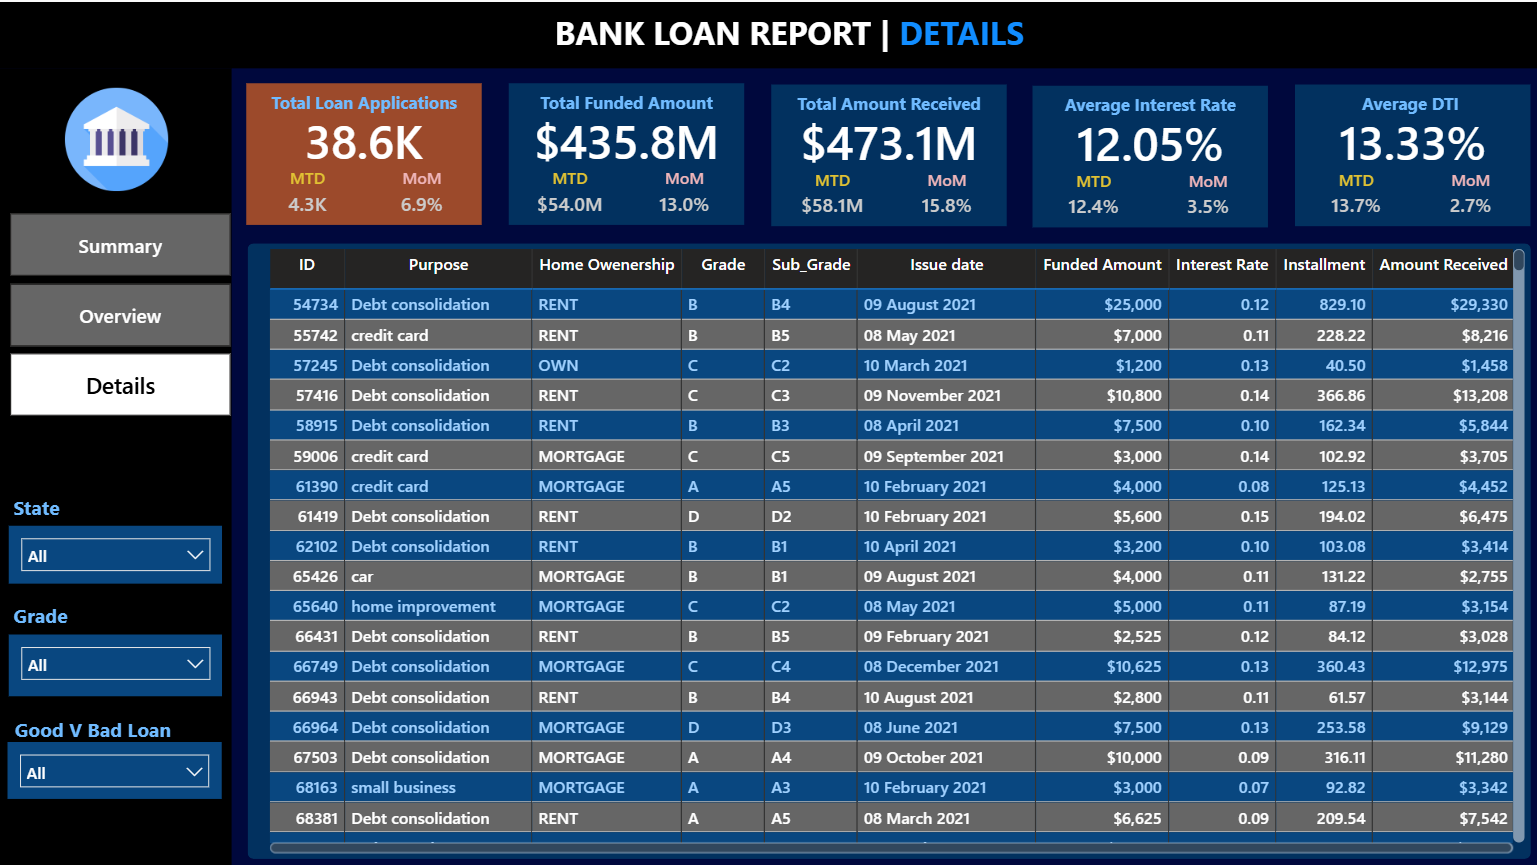

What the dashboard file says about the page in this screenshot:
{"tool":"powerbi","page":{"name":"Details","canvas":[1280,720],"ordinal":2},"visuals":[{"type":"shape","box":[0,0,1280.3,55],"z":0},{"type":"shape","box":[204.7,67.4,195.3,117.4],"z":0,"group":"g2"},{"type":"shape","box":[422,67.4,195.3,117.4],"z":0,"group":"g3"},{"type":"shape","box":[639.3,68.2,195.3,117.4],"z":0,"group":"g4"},{"type":"shape","box":[1073.3,68.2,195.3,117.4],"z":0,"group":"g6"},{"type":"shape","box":[856.3,69.4,195.3,117.4],"z":0,"group":"g5"},{"type":"card","fields":{"Values":["bank_loan_data.Total Loan Applications"]},"box":[204.7,91.8,195.3,45.3],"z":1000,"group":"g2"},{"type":"card","fields":{"Values":["bank_loan_data.Total Funded Amount"]},"box":[422,91.8,195.3,45.3],"z":1000,"group":"g3"},{"type":"card","fields":{"Values":["bank_loan_data.Total Received Amount"]},"box":[639.3,92.6,195.3,45.3],"z":1000,"group":"g4"},{"type":"card","fields":{"Values":["bank_loan_data.Average DTI Rate"]},"box":[1073.3,92.6,195.3,45.3],"z":1000,"group":"g6"},{"type":"card","fields":{"Values":["bank_loan_data.Avg Interest Rate"]},"box":[856.3,93.8,195.3,45.3],"z":1000,"group":"g5"},{"type":"group","id":"g1","title":"Group 2","box":[205,200,1064,510.5],"z":1000},{"type":"shape","box":[0,54.9,192,665.5],"z":2000,"group":"g7"},{"type":"textbox","box":[204.7,68.6,195.3,32.6],"z":2000,"group":"g2"},{"type":"textbox","box":[422,68.6,195.3,32.6],"z":2000,"group":"g3"},{"type":"textbox","box":[639.3,69.4,195.3,32.6],"z":2000,"group":"g4"},{"type":"textbox","box":[1073.3,69.4,195.3,32.6],"z":2000,"group":"g6"},{"type":"textbox","box":[856.3,70.6,195.3,32.6],"z":2000,"group":"g5"},{"type":"textbox","box":[454.7,2.3,444.2,52.3],"z":3000},{"type":"card","title":"MTD","fields":{"Values":["bank_loan_data.MTD Loan Applications"]},"box":[221,137.2,68.6,47.7],"z":3000,"group":"g2"},{"type":"card","title":"MTD","fields":{"Values":["bank_loan_data.MTD Total Funded Amount"]},"box":[438.3,137.2,68.6,47.7],"z":3000,"group":"g3"},{"type":"card","title":"MTD","fields":{"Values":["bank_loan_data.MTD Received Amount"]},"box":[655.6,138,68.6,47.7],"z":3000,"group":"g4"},{"type":"card","title":"MTD","fields":{"Values":["bank_loan_data.MTD DTI Rate"]},"box":[1089.6,138,68.6,47.7],"z":3000,"group":"g6"},{"type":"card","title":"MTD","fields":{"Values":["bank_loan_data.MTD Interest Rate"]},"box":[872.6,139.2,68.6,47.7],"z":3000,"group":"g5"},{"type":"shape","box":[205,200,1064,510.5],"z":3000,"group":"g1"},{"type":"group","id":"g2","title":"Group 1","box":[204.7,67.4,195.3,117.4],"z":4000},{"type":"card","title":"MoM","fields":{"Values":["bank_loan_data.MoM Loan Applications"]},"box":[315.2,137.2,69.8,47.7],"z":4000,"group":"g2"},{"type":"card","title":"MoM","fields":{"Values":["bank_loan_data.MoM Funded Amount"]},"box":[532.5,137.2,69.8,47.7],"z":4000,"group":"g3"},{"type":"card","title":"MoM","fields":{"Values":["bank_loan_data.MoM Received Amount"]},"box":[749.8,138,69.8,47.7],"z":4000,"group":"g4"},{"type":"card","title":"MoM","fields":{"Values":["bank_loan_data.MoM DTI Rate"]},"box":[1183.8,138,69.8,47.7],"z":4000,"group":"g6"},{"type":"card","title":"MoM","fields":{"Values":["bank_loan_data.MoM Interest Rate"]},"box":[966.8,139.2,69.8,47.7],"z":4000,"group":"g5"},{"type":"group","id":"g3","title":"Group 1","box":[422,67.4,195.3,117.4],"z":5000},{"type":"group","id":"g4","title":"Group 1","box":[639.3,68.2,195,117.3],"z":6000},{"type":"group","id":"g5","title":"Group 1","box":[856.3,69.4,195,117.3],"z":7000},{"type":"group","id":"g6","title":"Group 1","box":[1073.3,68.2,195,117.3],"z":8000},{"type":"slicer","title":"State","fields":{"Values":["bank_loan_data.address_state"]},"box":[7.2,434.3,177.1,47.9],"z":9000,"group":"g7"},{"type":"textbox","box":[6.7,403.1,89.3,31.3],"z":10000,"group":"g7"},{"type":"slicer","title":"State","fields":{"Values":["bank_loan_data.grade"]},"box":[7.2,524.1,177.1,51.4],"z":11000,"group":"g7"},{"type":"textbox","box":[6.7,492.4,89.3,31.3],"z":12000,"group":"g7"},{"type":"slicer","title":"State","fields":{"Values":["bank_loan_data.Good Vs Bad Loan "]},"box":[6.7,613,177.5,46.9],"z":13000,"group":"g7"},{"type":"textbox","box":[7.3,586.6,156.5,38.3],"z":14000,"group":"g7"},{"type":"tableEx","fields":{"Values":["bank_loan_data.id","bank_loan_data.purpose","bank_loan_data.home_ownership","bank_loan_data.grade","bank_loan_data.sub_grade","bank_loan_data.issue_date","bank_loan_data.Total Funded Amount","Sum(bank_loan_data.int_rate)","Sum(bank_loan_data.installment)","bank_loan_data.Total Received Amount"]},"box":[217.4,200,1051.2,510.5],"z":17001},{"type":"pageNavigator","box":[8.1,175.6,183.7,170.9],"z":17003,"group":"g7"},{"type":"image","box":[1.2,66.3,191.9,95.3],"z":17004,"group":"g7"},{"type":"group","id":"g7","title":"Group 3","box":[0,54.9,193,665.5],"z":17005}]}

Visuals, with their boxes in screenshot pixels (x1, y1, x2, y2), scaled from the page's 1280x720 canvas onto the 1537x865 screenshot:
shape: x1=0, y1=0, x2=1536, y2=66
shape: x1=246, y1=81, x2=480, y2=222
shape: x1=507, y1=81, x2=741, y2=222
shape: x1=768, y1=82, x2=1002, y2=223
shape: x1=1289, y1=82, x2=1523, y2=223
shape: x1=1028, y1=83, x2=1263, y2=224
card - bank_loan_data.Total Loan Applications: x1=246, y1=110, x2=480, y2=165
card - bank_loan_data.Total Funded Amount: x1=507, y1=110, x2=741, y2=165
card - bank_loan_data.Total Received Amount: x1=768, y1=111, x2=1002, y2=166
card - bank_loan_data.Average DTI Rate: x1=1289, y1=111, x2=1523, y2=166
card - bank_loan_data.Avg Interest Rate: x1=1028, y1=113, x2=1263, y2=167
"Group 2" group: x1=246, y1=240, x2=1524, y2=854
shape: x1=0, y1=66, x2=231, y2=864
textbox: x1=246, y1=82, x2=480, y2=122
textbox: x1=507, y1=82, x2=741, y2=122
textbox: x1=768, y1=83, x2=1002, y2=123
textbox: x1=1289, y1=83, x2=1523, y2=123
textbox: x1=1028, y1=85, x2=1263, y2=124
textbox: x1=546, y1=3, x2=1079, y2=66
"MTD" card: x1=265, y1=165, x2=348, y2=222
"MTD" card: x1=526, y1=165, x2=609, y2=222
"MTD" card: x1=787, y1=166, x2=870, y2=223
"MTD" card: x1=1308, y1=166, x2=1391, y2=223
"MTD" card: x1=1048, y1=167, x2=1130, y2=225
shape: x1=246, y1=240, x2=1524, y2=854
"Group 1" group: x1=246, y1=81, x2=480, y2=222
"MoM" card: x1=378, y1=165, x2=462, y2=222
"MoM" card: x1=639, y1=165, x2=723, y2=222
"MoM" card: x1=900, y1=166, x2=984, y2=223
"MoM" card: x1=1421, y1=166, x2=1505, y2=223
"MoM" card: x1=1161, y1=167, x2=1245, y2=225
"Group 1" group: x1=507, y1=81, x2=741, y2=222
"Group 1" group: x1=768, y1=82, x2=1002, y2=223
"Group 1" group: x1=1028, y1=83, x2=1262, y2=224
"Group 1" group: x1=1289, y1=82, x2=1523, y2=223
"State" slicer: x1=9, y1=522, x2=221, y2=579
textbox: x1=8, y1=484, x2=115, y2=522
"State" slicer: x1=9, y1=630, x2=221, y2=691
textbox: x1=8, y1=592, x2=115, y2=629
"State" slicer: x1=8, y1=736, x2=221, y2=793
textbox: x1=9, y1=705, x2=197, y2=751
tableEx - bank_loan_data.id x bank_loan_data.purpose: x1=261, y1=240, x2=1523, y2=854
pageNavigator: x1=10, y1=211, x2=230, y2=416
image: x1=1, y1=80, x2=232, y2=194
"Group 3" group: x1=0, y1=66, x2=232, y2=864
